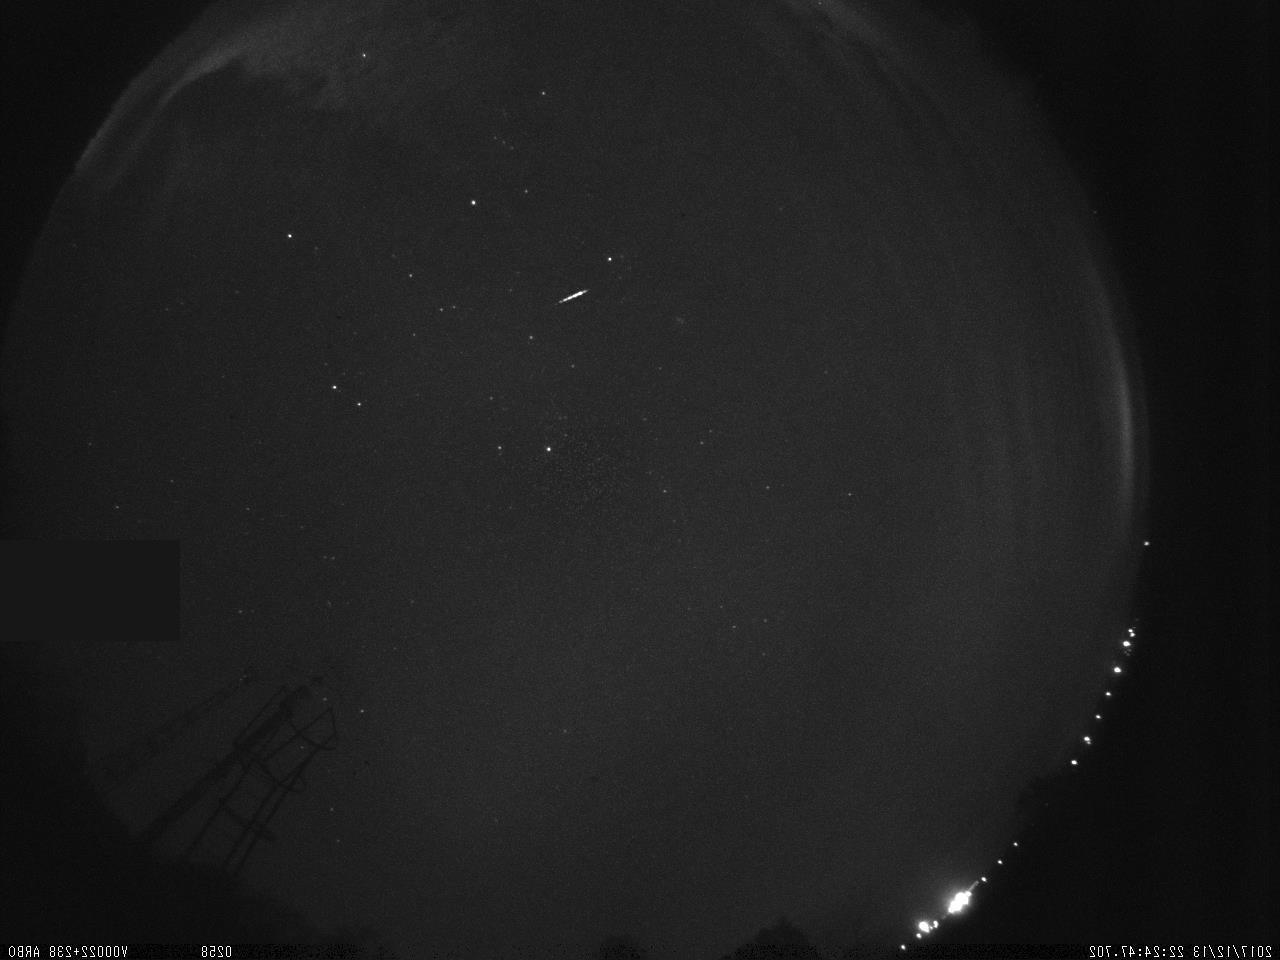meteor: (536, 278, 598, 317)
